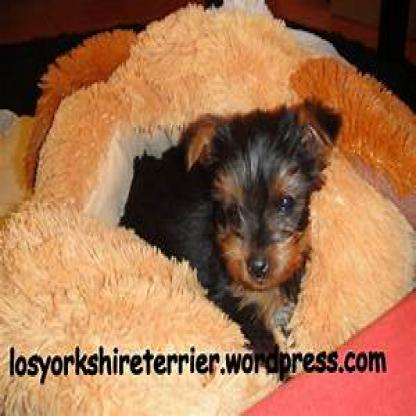dog: (118, 100, 341, 346)
